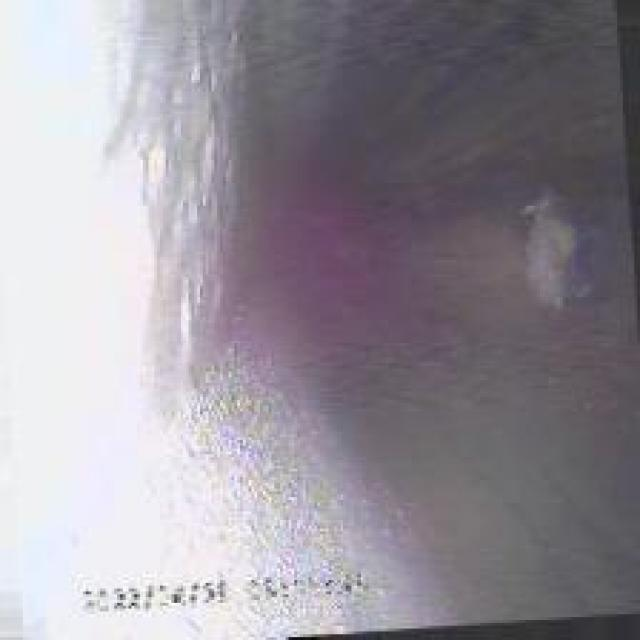ferrule: (508, 192, 592, 312)
